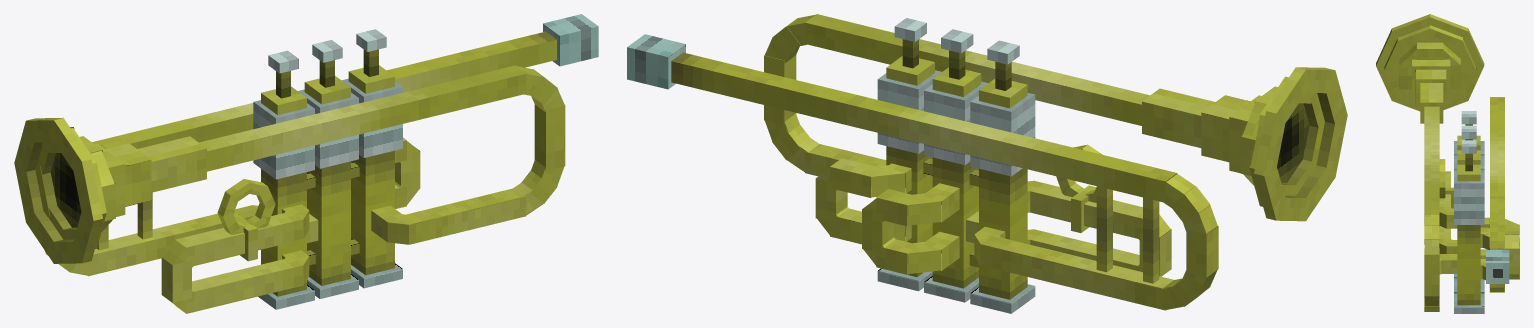
The picture shows the model from 3 angles, left to right: view 1: azimuth 30°, elevation 25°; view 2: azimuth 150°, elevation 25°; view 3: azimuth 270°, elevation 25°; orthographic projection. The views are drawn at different scales.
Parts seen in each view (by area): view 1: Object_2; view 2: Object_2; view 3: Object_2.
Boxes of the visible parts, <box> form: Object_2: <box>14,14,598,313</box>; Object_2: <box>627,14,1347,313</box>; Object_2: <box>1376,14,1519,313</box>.
Size of the model in its own units: 20 by 8.51 by 6.24.
Materials: 1 (1 with a texture image).
